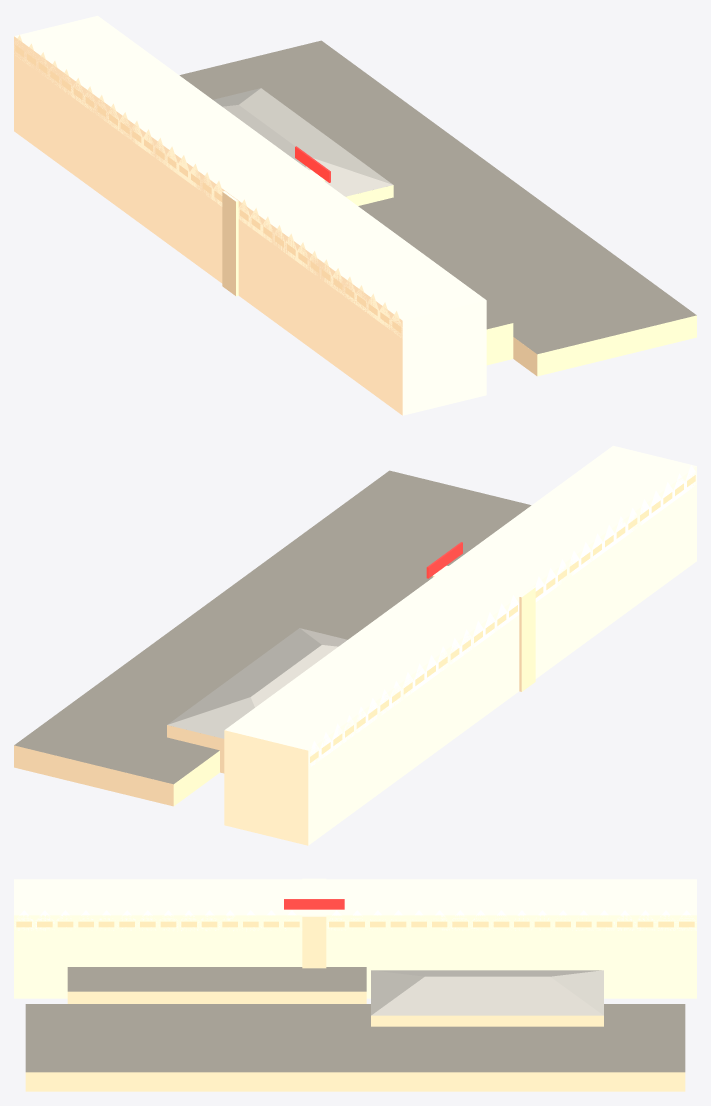
The model's file is islamabad_marriott_far.glb.
3 renders of one model, top to bottom at view 1: azimuth 30°, elevation 25°; view 2: azimuth 150°, elevation 25°; view 3: azimuth 270°, elevation 25°, orthographic. The views are drawn at different scales.
Parts seen in each view (by area): view 1: m_roof_flat, m_band_light, m_wall_cream, m_hall_roof, m_hood_white, m_loggia_glass; view 2: m_roof_flat, m_band_light, m_wall_cream, m_hall_roof, m_hood_white, m_loggia_glass; view 3: m_roof_flat, m_wall_cream, m_band_light, m_hall_roof, m_loggia_glass, m_hood_white, m_sign_red.
Boxes of the visible parts, x1,y1,x2,y2 form: m_roof_flat: (179, 40, 696, 354); m_band_light: (14, 36, 486, 415); m_wall_cream: (14, 15, 696, 376); m_hall_roof: (213, 88, 392, 196); m_hood_white: (14, 35, 402, 337); m_loggia_glass: (15, 45, 400, 332); m_roof_flat: (14, 470, 531, 784); m_band_light: (224, 466, 696, 845); m_wall_cream: (14, 445, 696, 806); m_hall_roof: (167, 628, 347, 738); m_hood_white: (308, 465, 696, 766); m_loggia_glass: (310, 475, 695, 762); m_roof_flat: (25, 967, 685, 1072); m_wall_cream: (14, 878, 696, 1091); m_band_light: (14, 915, 696, 998); m_hall_roof: (371, 970, 603, 1015); m_loggia_glass: (16, 921, 694, 927); m_hood_white: (14, 910, 696, 931); m_sign_red: (284, 899, 344, 909).
Bounding box in the file's own units: 68.8 × 24.2 × 153.
